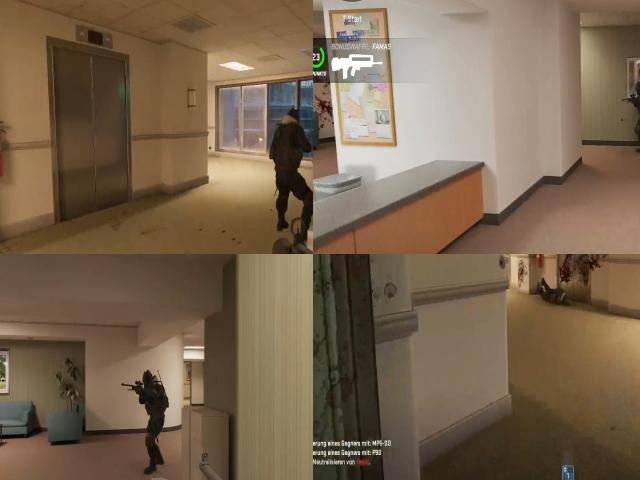CT: (138, 366, 170, 471), (272, 100, 306, 188), (284, 104, 304, 132), (633, 78, 640, 124)
CT-Head: (139, 369, 157, 388), (633, 80, 640, 100)
Dead: (534, 276, 573, 309)
